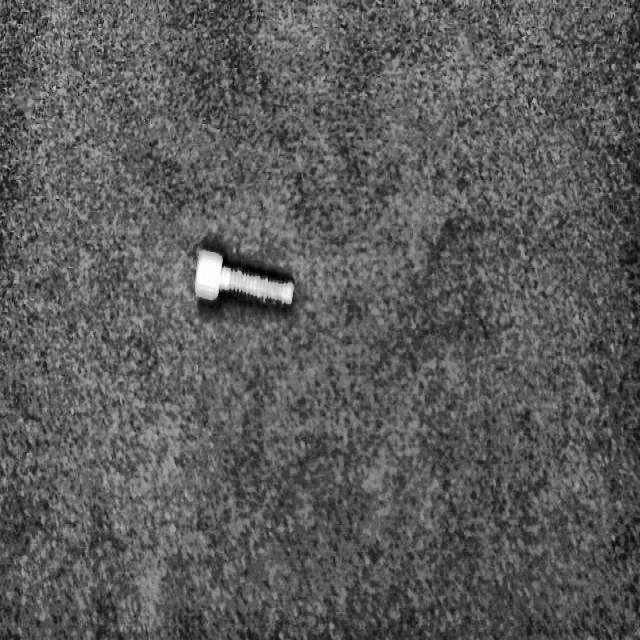Socket head cap screw: (192, 247, 295, 312)
